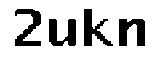2: (8, 5, 44, 49)
k: (82, 5, 116, 52)
n: (117, 14, 150, 49)
u: (48, 14, 79, 50)
